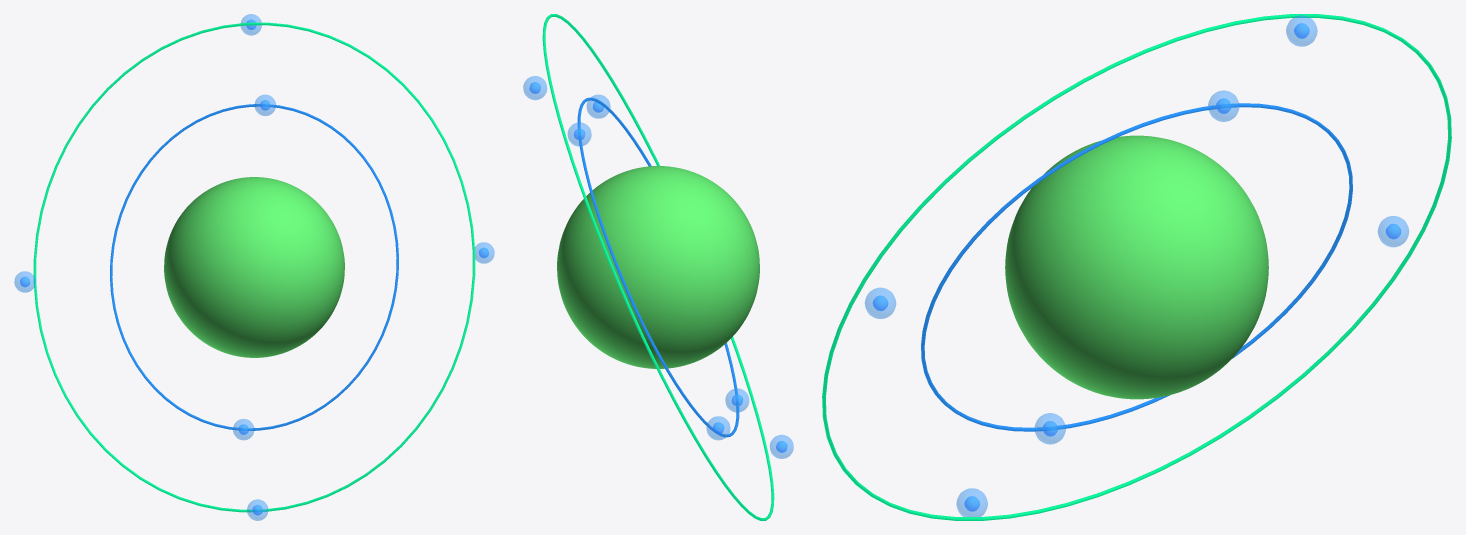
3 views of the same model, side by side, from view 1: azimuth 30°, elevation 25°; view 2: azimuth 150°, elevation 25°; view 3: azimuth 270°, elevation 25° (orthographic). The views are drawn at different scales.
Visible parts, largest first — view 1: C, object 7, object 2; view 2: C, object 7, object 2, object 12, object 10, object 14, object 5, object 3, object 8; view 3: C, object 7, object 2, object 14, object 8, object 12, object 5, object 3, object 10.
Boxes of the visible parts, box(x1,y1,x2,y2) form: C: box(164, 177, 344, 357); object 7: box(33, 22, 475, 512); object 2: box(110, 104, 398, 430); C: box(557, 166, 759, 368); object 7: box(542, 14, 774, 520); object 2: box(577, 97, 739, 437); object 12: box(706, 416, 730, 440); object 10: box(769, 434, 793, 458); object 14: box(523, 76, 547, 100); object 5: box(567, 122, 591, 146); object 3: box(725, 388, 749, 412); object 8: box(586, 94, 610, 118); C: box(1005, 135, 1268, 399); object 7: box(822, 14, 1451, 520); object 2: box(921, 103, 1352, 431); object 14: box(1286, 15, 1317, 46); object 8: box(864, 287, 896, 318); object 12: box(1377, 216, 1409, 247); object 5: box(1208, 90, 1239, 121); object 3: box(1034, 413, 1065, 444); object 10: box(956, 488, 987, 516).
Size of the model in its own units: 2.57 by 3.29 by 3.19.
